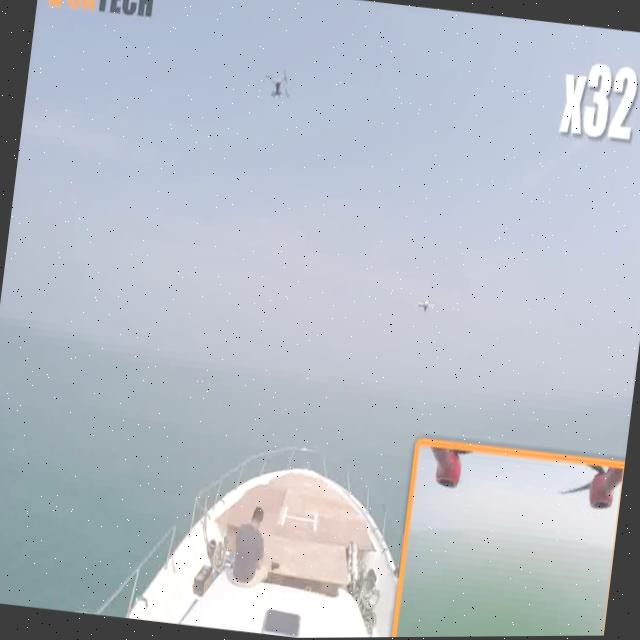drone: (258, 56, 296, 111), (410, 288, 438, 317)
